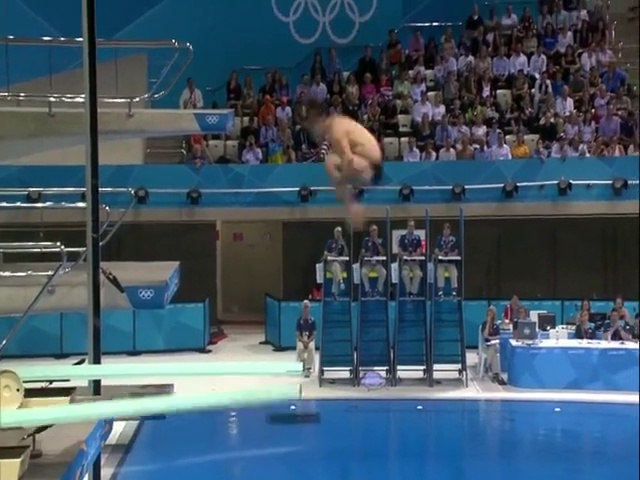diver: (299, 101, 382, 231)
